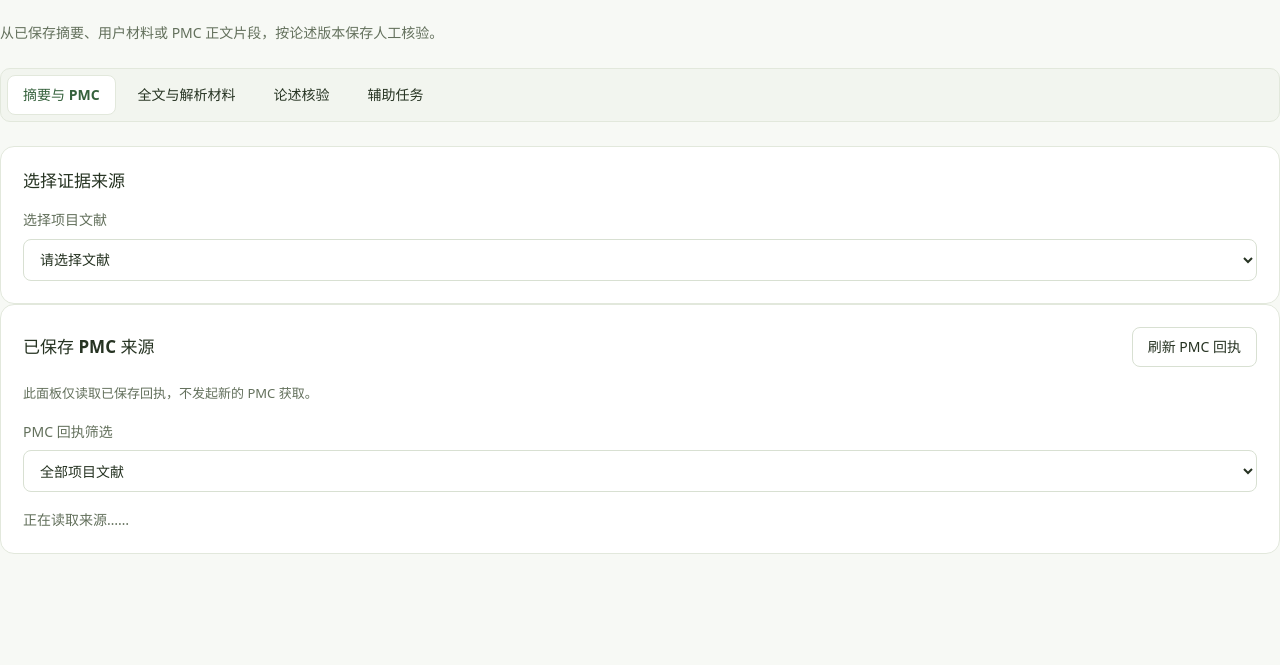
Test: records model planning as an authorization wait and never posts a manual review
Click the button "辅助任务" at (396, 95), box [352, 75, 440, 115]
(page scrolled)
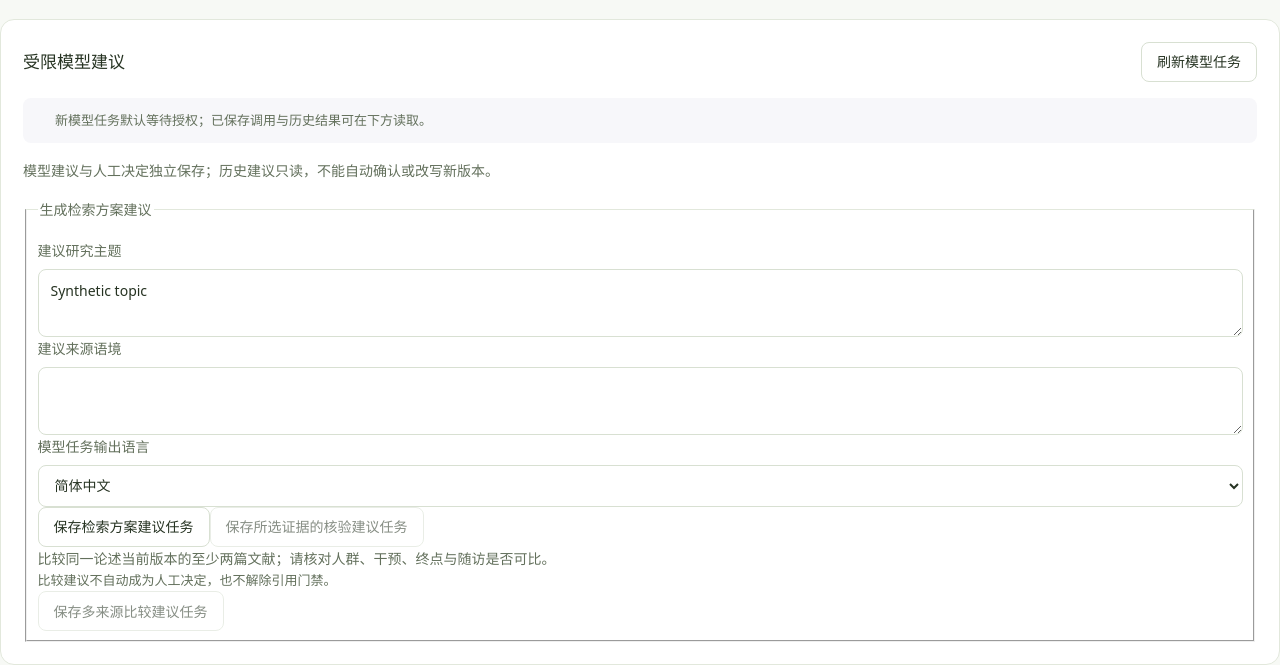
Click the button "保存检索方案建议任务" at (124, 527), box [38, 507, 210, 547]
(page scrolled)
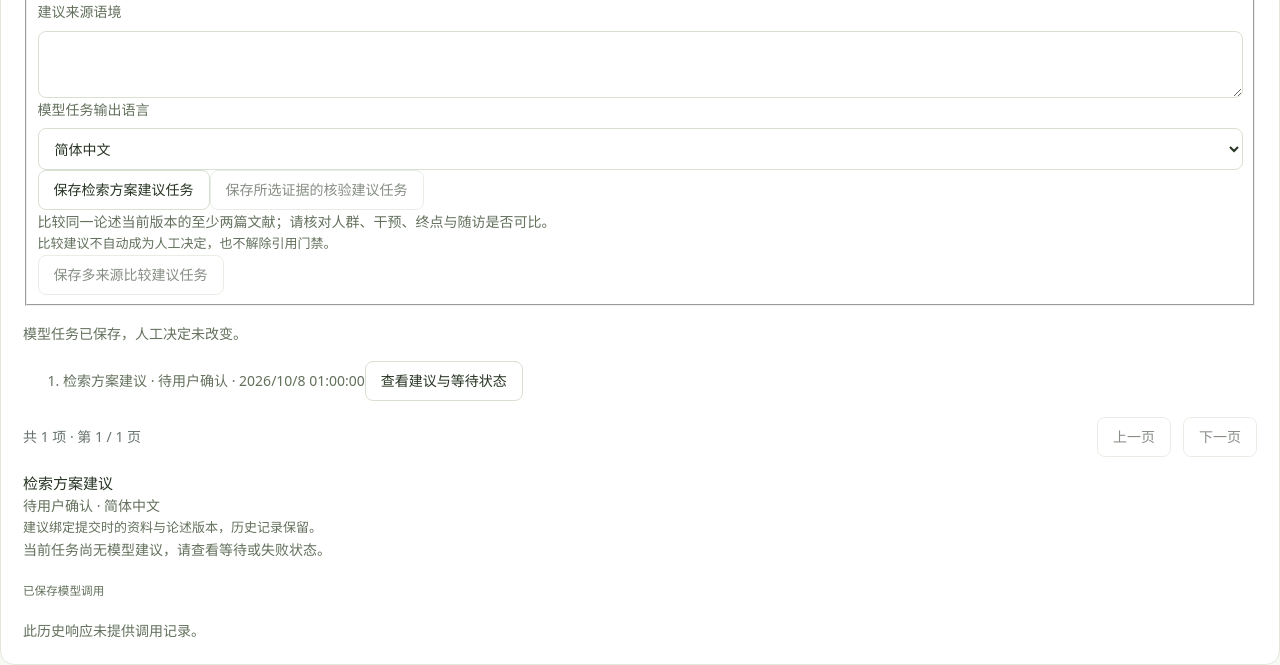
Check: the text "模型任务已保存，人工决定未改变。" is shown, box [23, 324, 247, 342]
Check: the text "当前任务尚无模型建议，请查看等待或失败状态。" is shown, box [23, 540, 331, 559]
